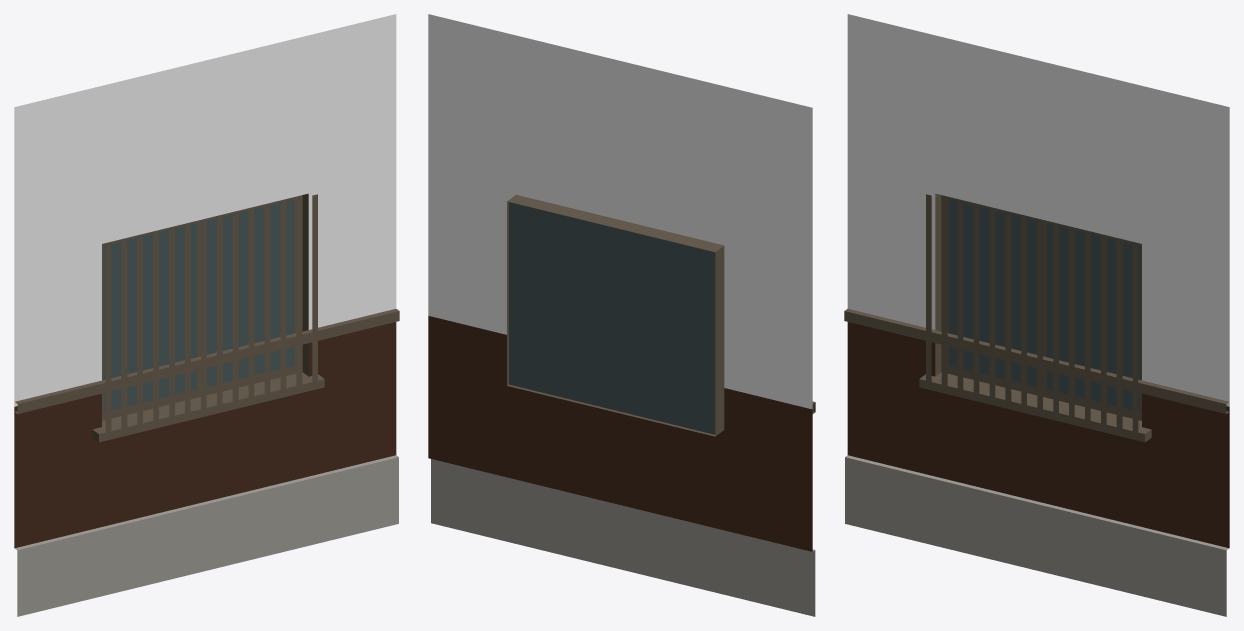
3 views of the same model, side by side, from view 1: azimuth 30°, elevation 25°; view 2: azimuth 150°, elevation 25°; view 3: azimuth 330°, elevation 25° (orthographic).
Parts seen in each view (by area): view 1: a2015/800/base-w3; view 2: a2015/800/base-w3; view 3: a2015/800/base-w3.
Part boxes in pixels (x1,y1,x2,y2): a2015/800/base-w3: [14, 14, 399, 616]; a2015/800/base-w3: [428, 14, 815, 616]; a2015/800/base-w3: [844, 14, 1229, 616].
Size of the model in its own units: 2.4 by 3.05 by 0.17.
